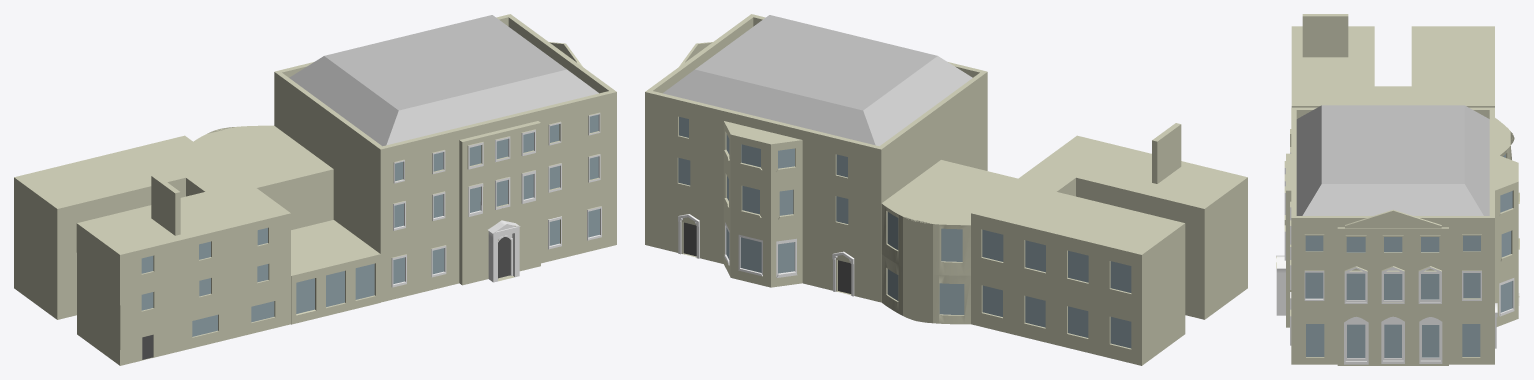
File: RF_House 1.fbx
3 renders of one model, left to right at view 1: azimuth 30°, elevation 25°; view 2: azimuth 150°, elevation 25°; view 3: azimuth 270°, elevation 25°, orthographic. The views are drawn at different scales.
Parts seen in each view (by area): view 1: pCube12; view 2: pCube12; view 3: pCube12.
Boxes of the visible parts, <box> form: pCube12: <box>14,14,616,365</box>; pCube12: <box>645,14,1247,365</box>; pCube12: <box>1276,14,1519,365</box>.
Size of the model in its own units: 217 by 71.18 by 95.44.
